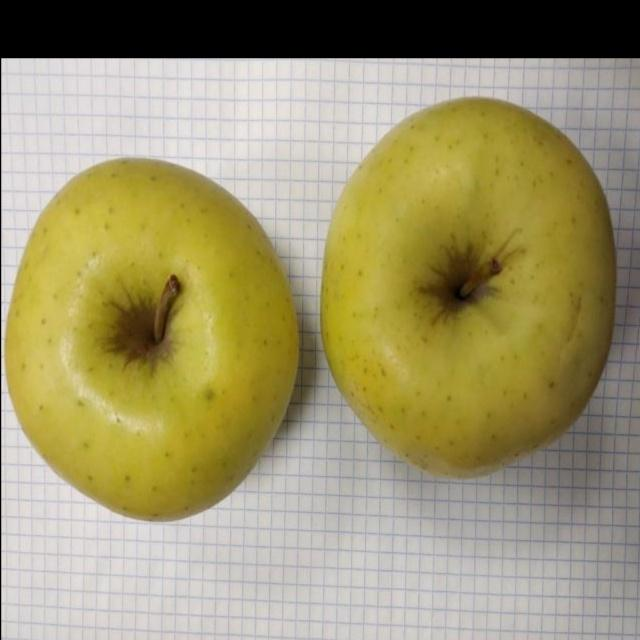green apple: (317, 92, 618, 487), (3, 156, 301, 522)
